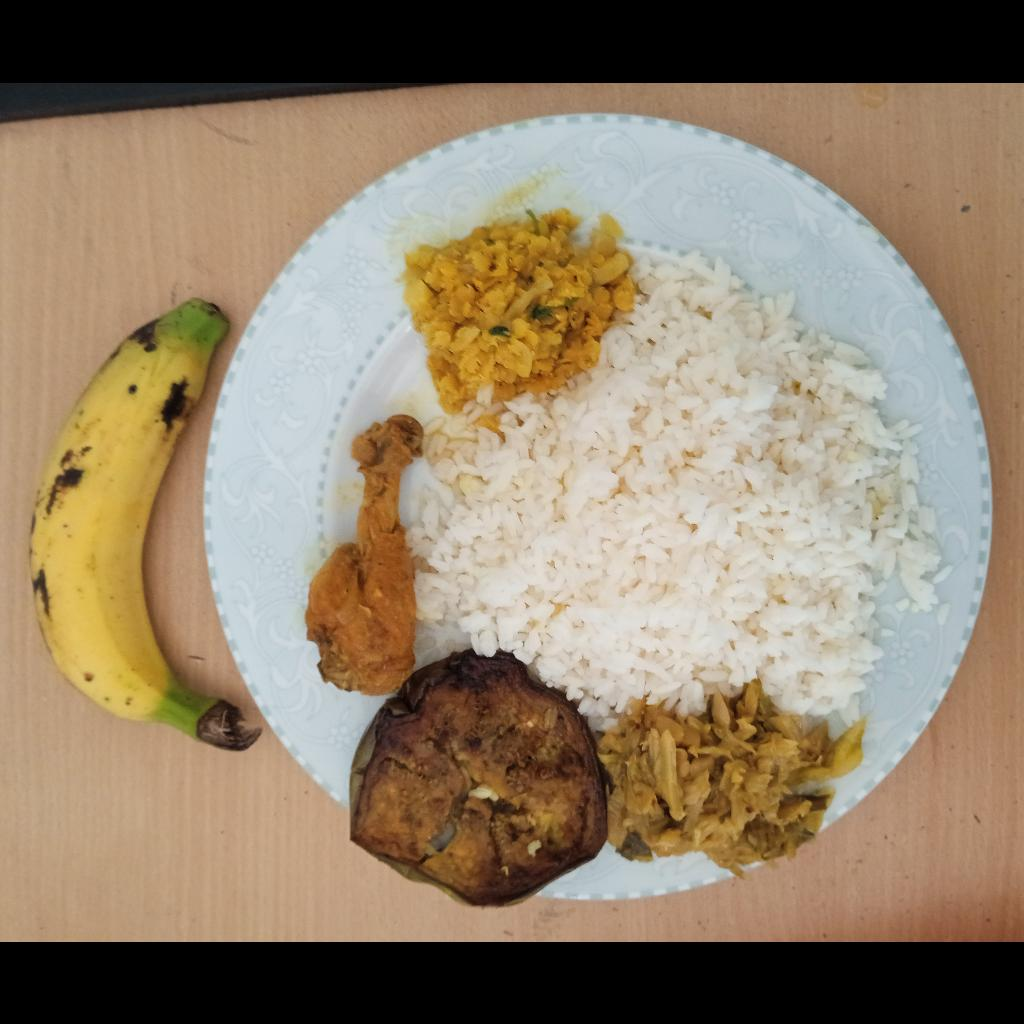banana: (27, 297, 262, 752)
begun-vaji: (349, 652, 609, 912)
cabbage: (597, 679, 866, 879)
chicken: (302, 413, 425, 697)
daal: (399, 205, 638, 411)
rice: (416, 251, 936, 725)
